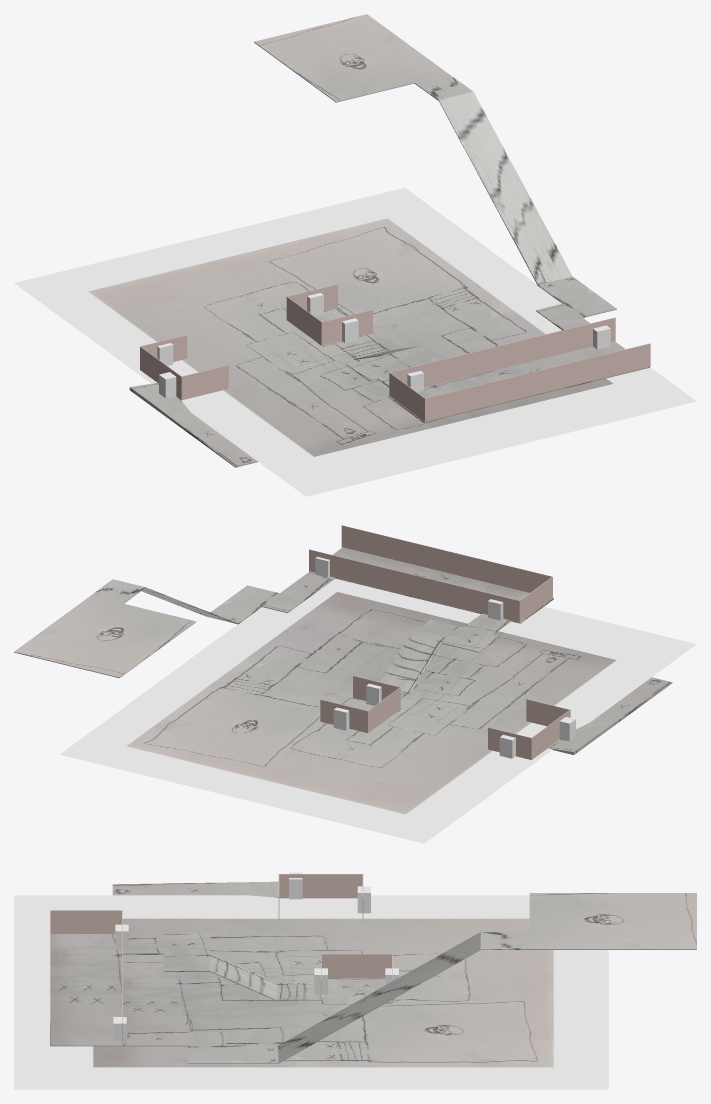
File: Tutorial_Level.fbx
3 views of the same model, one above another, from view 1: azimuth 30°, elevation 25°; view 2: azimuth 150°, elevation 25°; view 3: azimuth 270°, elevation 25° (orthographic). The views are drawn at different scales.
Parts seen in each view (by area): view 1: Concept Art _ Map, Cube, Room.002, Room, Room.001; view 2: Concept Art _ Map, Cube, Room.002, Room, Room.001; view 3: Concept Art _ Map, Cube, Room.002, Room, Room.001, CTRL_Hole.001, CTRL_Hole.003, CTRL_Hole.004, CTRL_Hole.005.
Part boxes in pixels (left/top/right/bottom): Concept Art _ Map: left=14, top=187, right=696, bottom=496; Cube: left=129, top=14, right=649, bottom=467; Room.002: left=389, top=317, right=650, bottom=421; Room: left=140, top=335, right=228, bottom=400; Room.001: left=286, top=284, right=372, bottom=345; Concept Art _ Map: left=60, top=578, right=696, bottom=843; Cube: left=14, top=547, right=672, bottom=754; Room.002: left=309, top=525, right=552, bottom=622; Room: left=488, top=699, right=570, bottom=759; Room.001: left=320, top=675, right=400, bottom=732; Concept Art _ Map: left=14, top=895, right=608, bottom=1089; Cube: left=50, top=881, right=696, bottom=1063; Room.002: left=50, top=910, right=122, bottom=1046; Room: left=278, top=874, right=363, bottom=920; Room.001: left=321, top=954, right=392, bottom=991; CTRL_Hole.001: left=357, top=886, right=370, bottom=913; CTRL_Hole.003: left=314, top=968, right=327, bottom=994; CTRL_Hole.004: left=115, top=924, right=128, bottom=949; CTRL_Hole.005: left=113, top=1017, right=126, bottom=1041.
Bounding box in the file's own units: 1454 × 475 × 2016.
3 materials, 1 textured.
